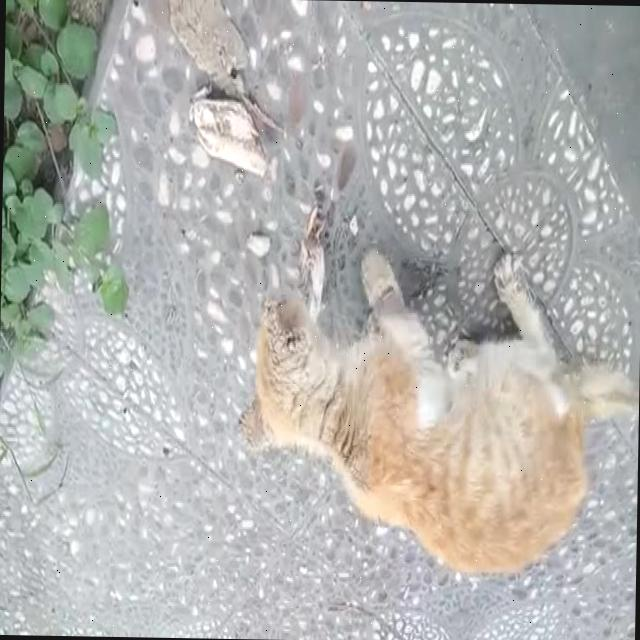cat-scabies: (260, 290, 314, 384), (311, 386, 364, 476), (226, 388, 278, 471), (478, 242, 530, 302)
